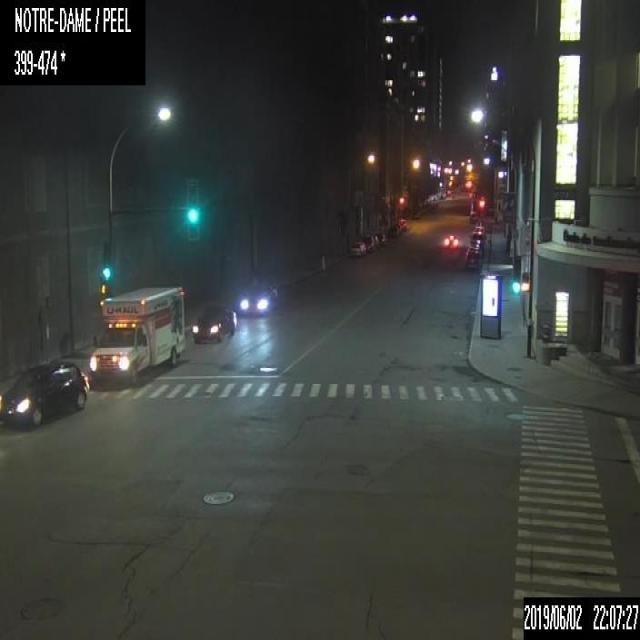vehicle: (90, 284, 187, 380), (0, 361, 88, 427), (189, 302, 238, 343), (237, 282, 280, 316), (463, 246, 482, 268), (347, 240, 366, 258), (359, 234, 376, 252), (443, 232, 458, 248), (466, 238, 482, 251), (374, 232, 386, 246), (471, 230, 483, 244), (388, 225, 398, 236)
